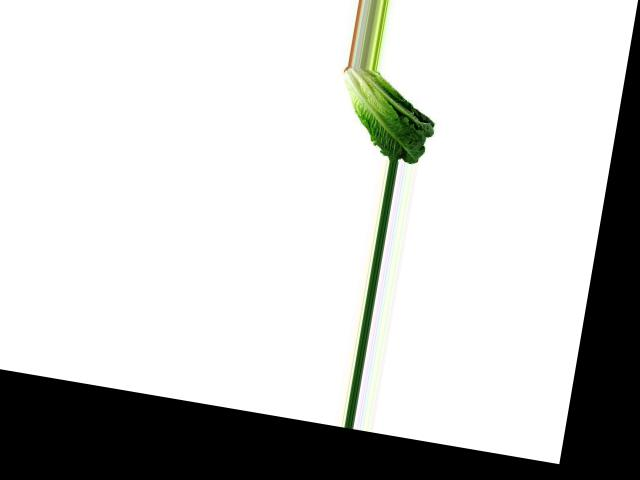lettuce: (329, 65, 443, 166)
